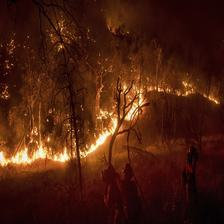fire: (105, 70, 220, 133), (6, 119, 103, 174)
